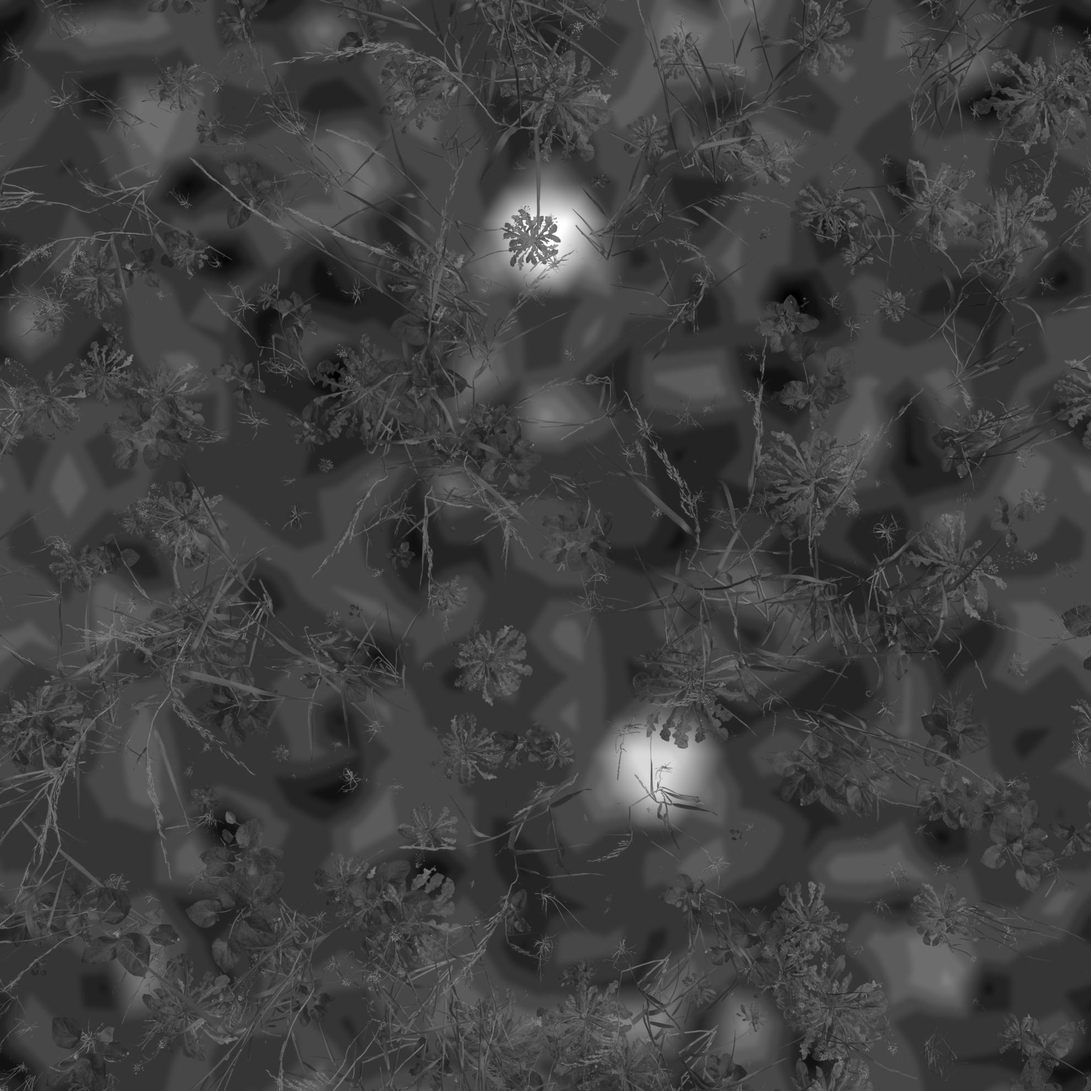landmine: (478, 168, 614, 309), (591, 699, 723, 840)
